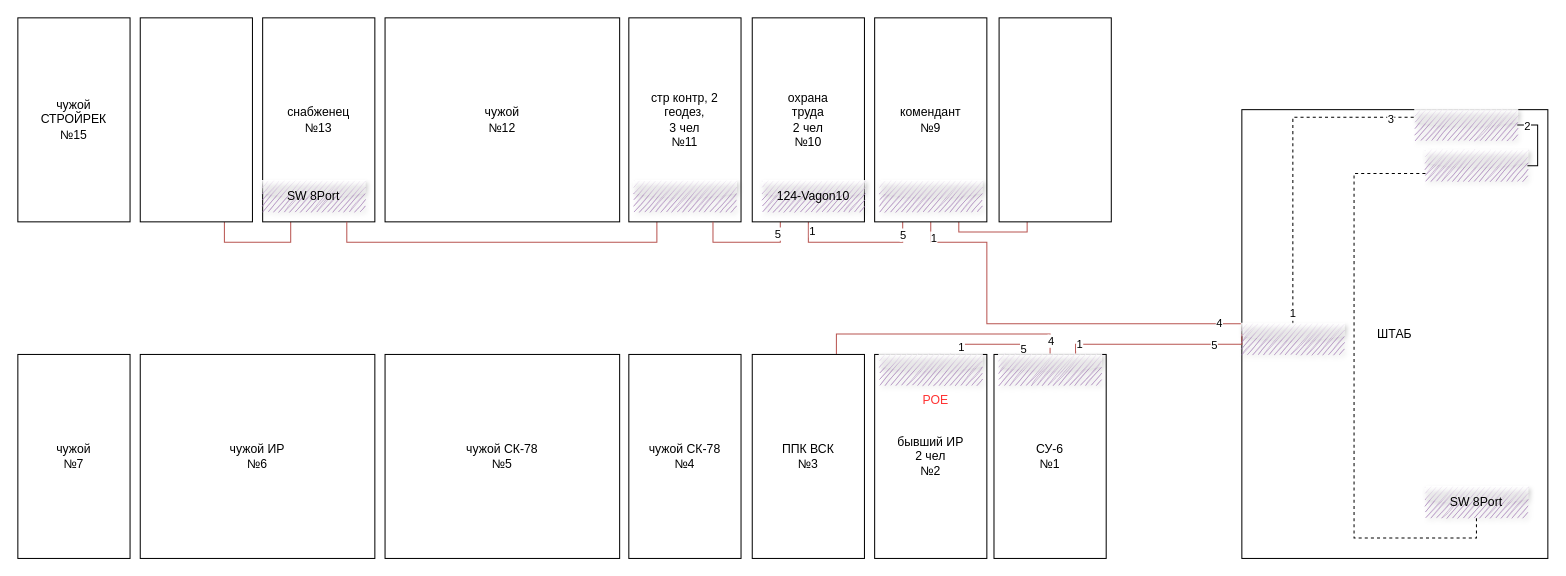
This 1566x576 diagram has some shape labels left out. The centre of each missing label's shape, as x and y in pixels:
"124-EDIK" goes at point 1293,340.
"124-exSA80" goes at point 931,371.
"124-Vagon1" goes at point 1050,371.
"124-Vagon9" goes at point 931,197.
"GW" goes at point 1467,126.
"SW 24 UMGMT" goes at point 1477,167.
"SW 24Port" goes at point 685,197.
"кладовщик, электрик №8" goes at point 1054,119.
"ППК ВСК №14" goes at point 195,119.
